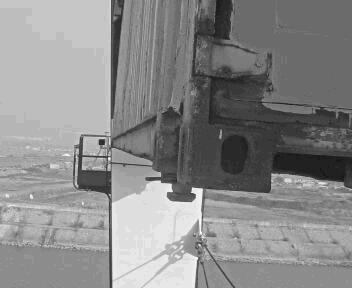twist_lock_1: (152, 170, 204, 206)
